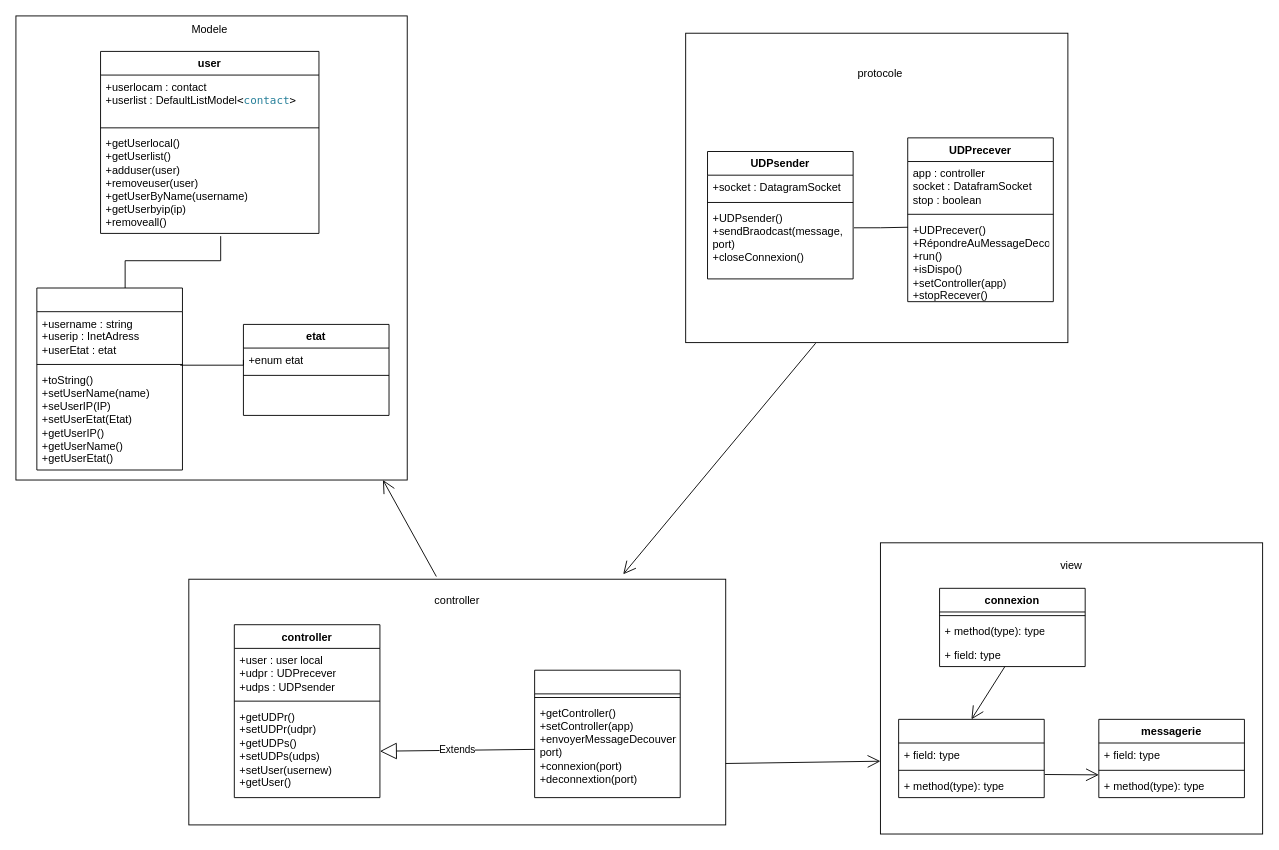
This 1279x850 diagram has some shape labels left out. Here are the shapes that lost their labels. From the top down, the box of each, then its label:
(36, 287, 182, 470): contact
(534, 669, 680, 798): controllerDecouvert
(898, 718, 1044, 798): ChatPage
